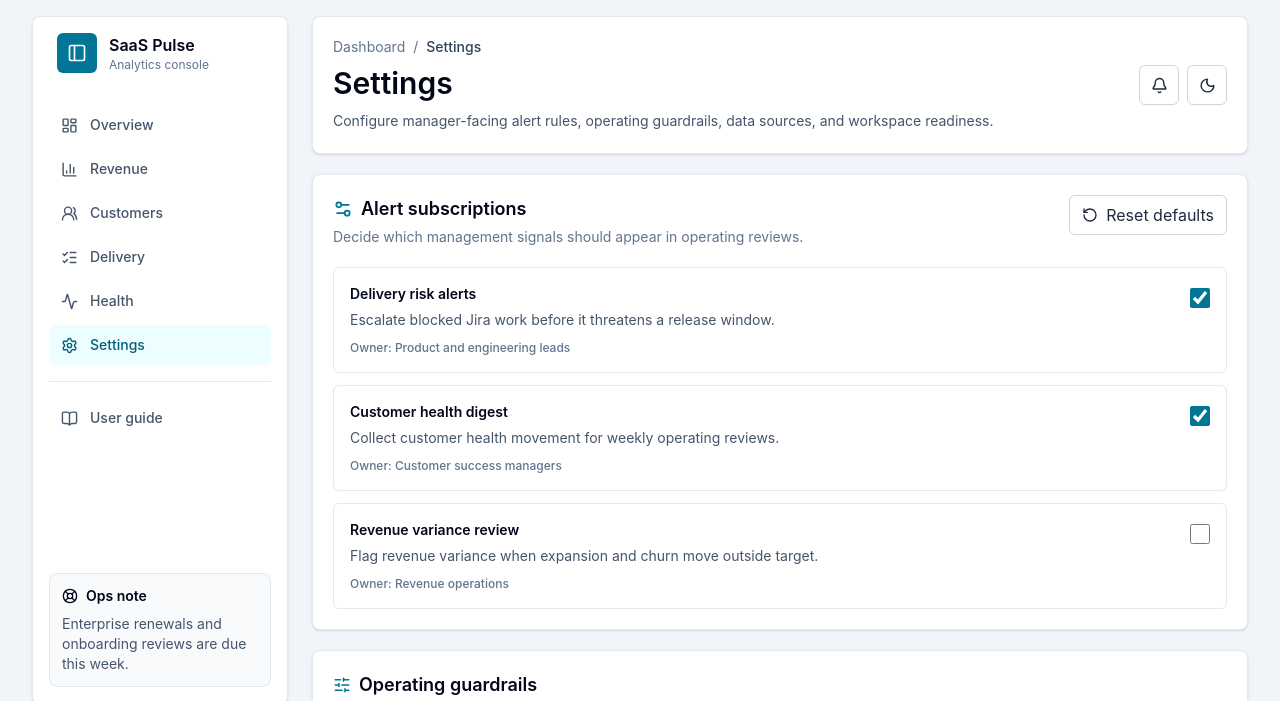
Test case: SettingsPageClient › resets preferences and guardrails to workspace defaults
Click the checkbox labelled "Revenue variance review" at coordinates (1200, 534), box x1=1190 y1=524 x2=1210 y2=544
(page scrolled)
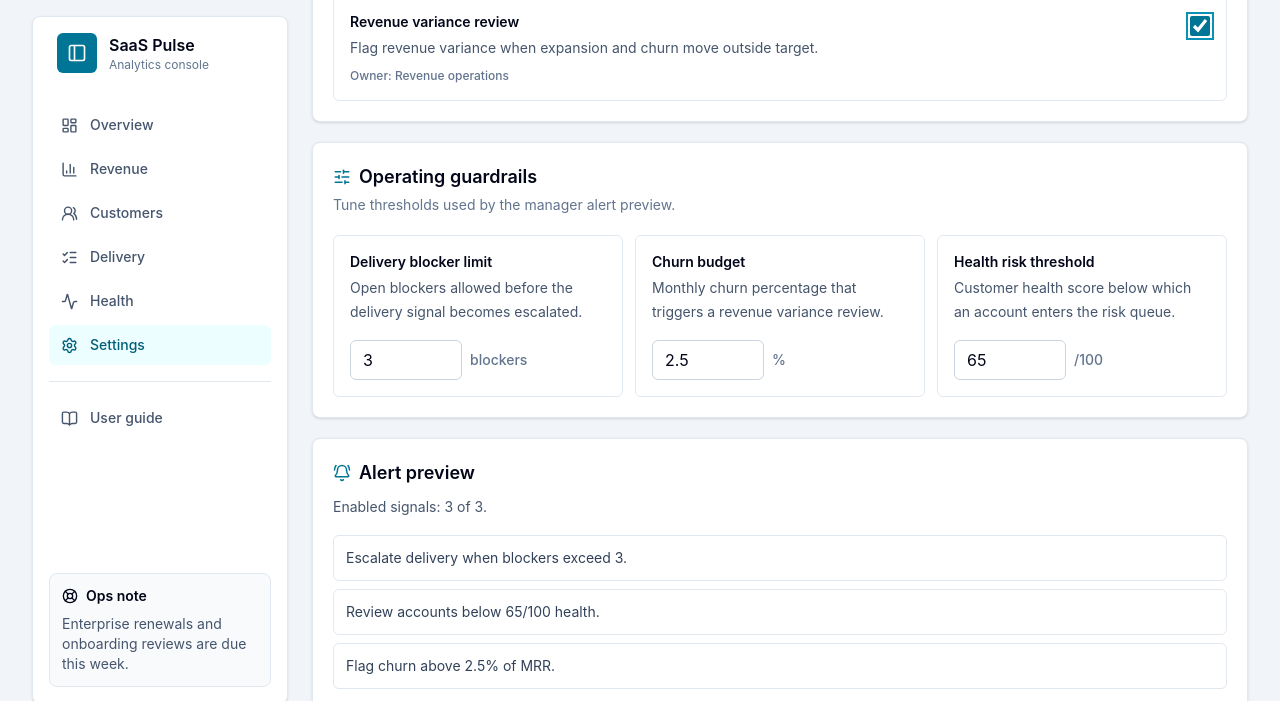
Replace the text in the number field labelled "Delivery blocker limit" with "5" at coordinates (406, 360), box x1=350 y1=340 x2=462 y2=380
(page scrolled)
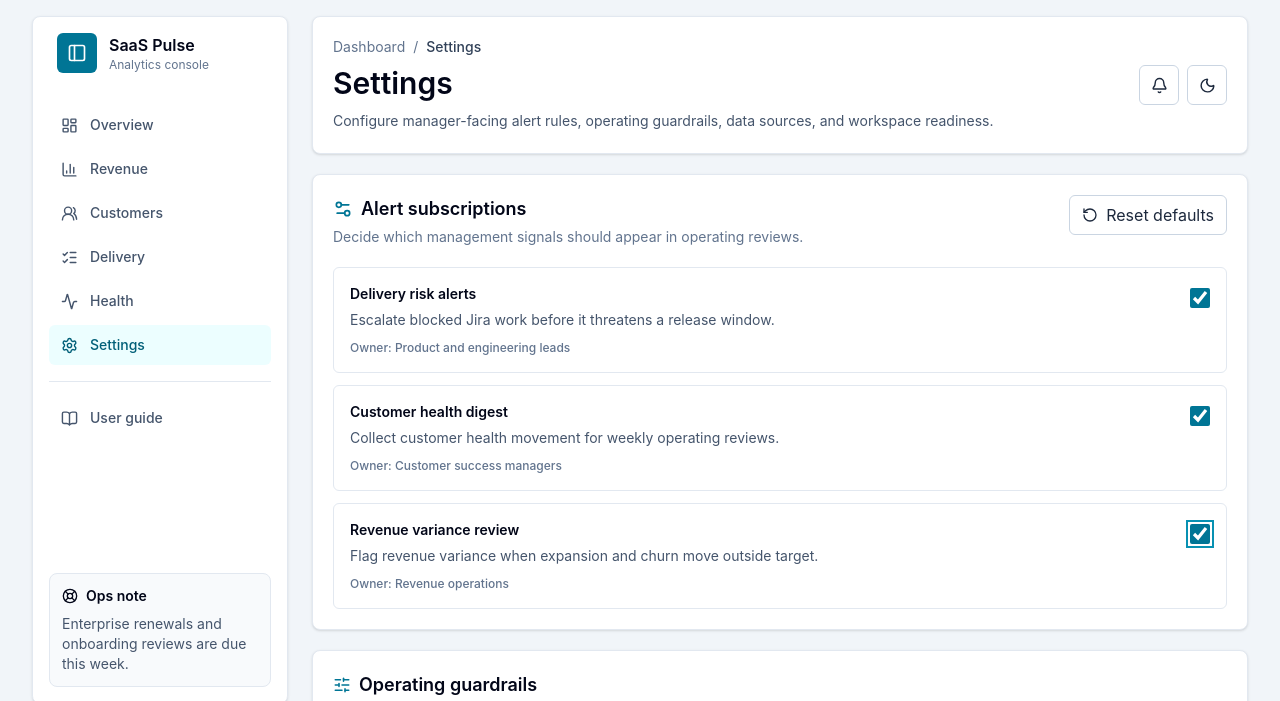
Click the button "Reset defaults" at coordinates (1148, 215), box x1=1069 y1=195 x2=1227 y2=235
(page scrolled)
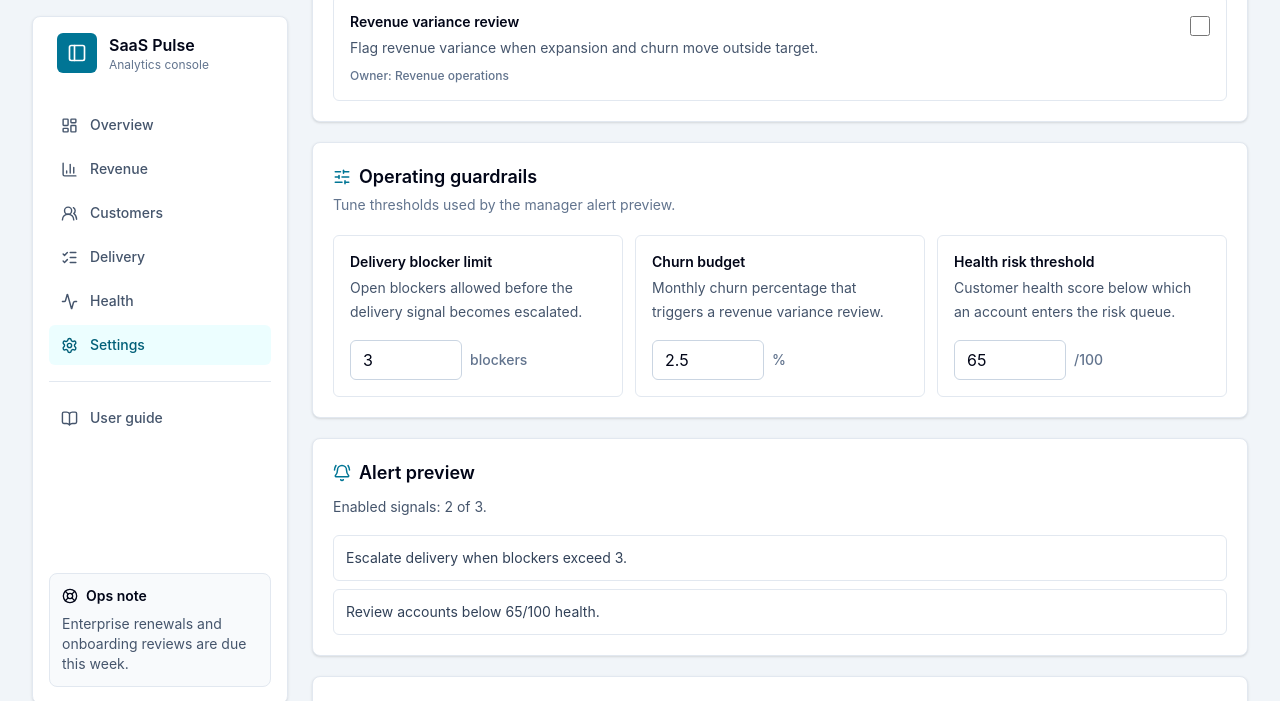
Check: the checkbox labelled "Revenue variance review" is not checked, box x1=1190 y1=16 x2=1210 y2=36
Check: the text "Enabled signals: 2 of 3." is shown, box x1=333 y1=498 x2=487 y2=515
Check: the list item "Escalate delivery when blockers exceed 3." is shown, box x1=333 y1=535 x2=1227 y2=581
